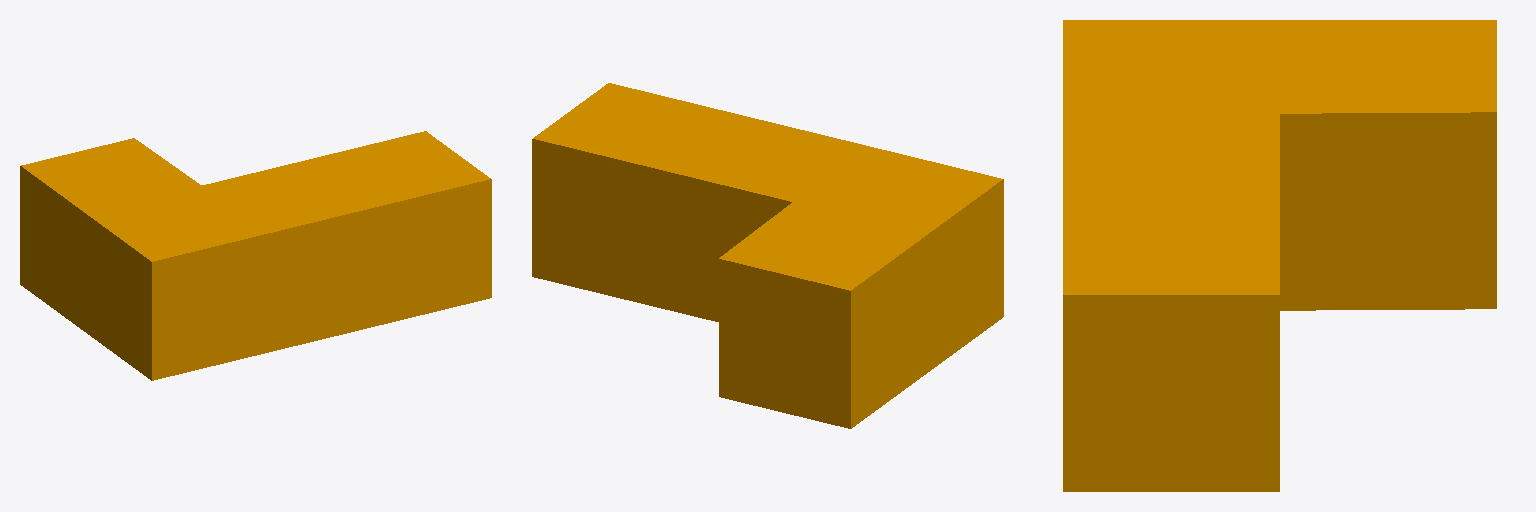
robot.urdf — 2_3L_0:
<robot name="2_3L_0">
  <link name="link">
    <visual>
      <geometry>
        <mesh filename="2_3L_0.obj" scale="1 1 1"/>
      </geometry>
    </visual>
    <collision>
      <geometry>
        <mesh filename="2_3L_0.obj" scale="1 1 1"/>
      </geometry>
    </collision>
    <inertial>
      <mass value="1"/>
      <inertia ixx="1" iyy="1" izz="1" ixy="0" ixz="0" iyz="0"/>
      <origin xyz="0 0 0" rpy="0 0 0"/>
    </inertial>
  </link>
</robot>

--- Render facts (derived) ---
3 views of the same robot in one strip: view 1: azimuth 30°, elevation 25°; view 2: azimuth 150°, elevation 25°; view 3: azimuth 270°, elevation 25° (orthographic).
Robot: 2_3L_0 — 1 links, 0 joints (none); root link link; default pose: all joints at 0.
Visible links, largest first — view 1: link; view 2: link; view 3: link.
Link boxes in pixels (x1,y1,x2,y2): link: [20, 131, 491, 380]; link: [532, 83, 1003, 428]; link: [1063, 20, 1496, 491].
Size in the robot's own frame: 0.1767 by 0.1184 by 0.0592 metres.
1 mesh visuals loaded from 1 distinct referenced files (1 OBJ).